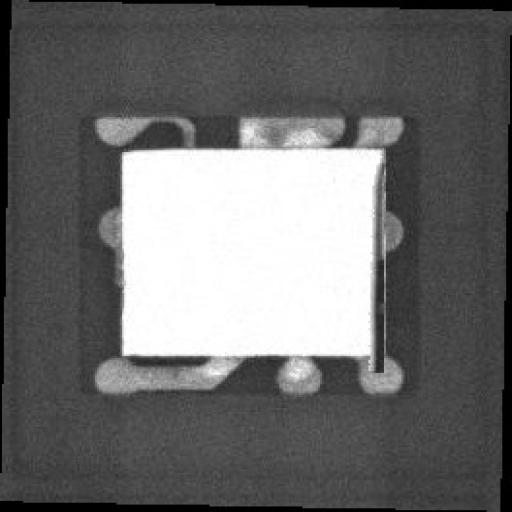DIE_BROKEN: (361, 156, 384, 373)
